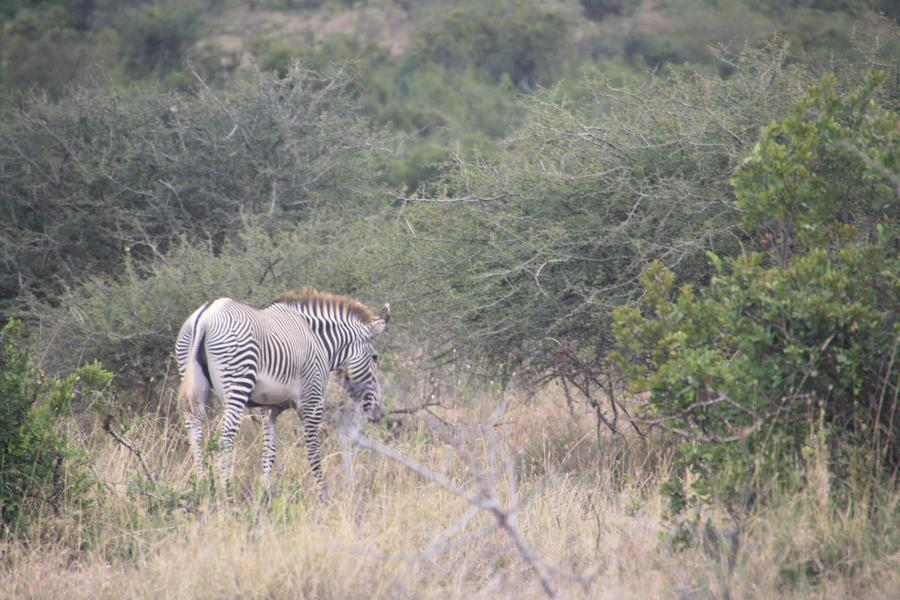zebra_grevys: (196, 291, 324, 395)
